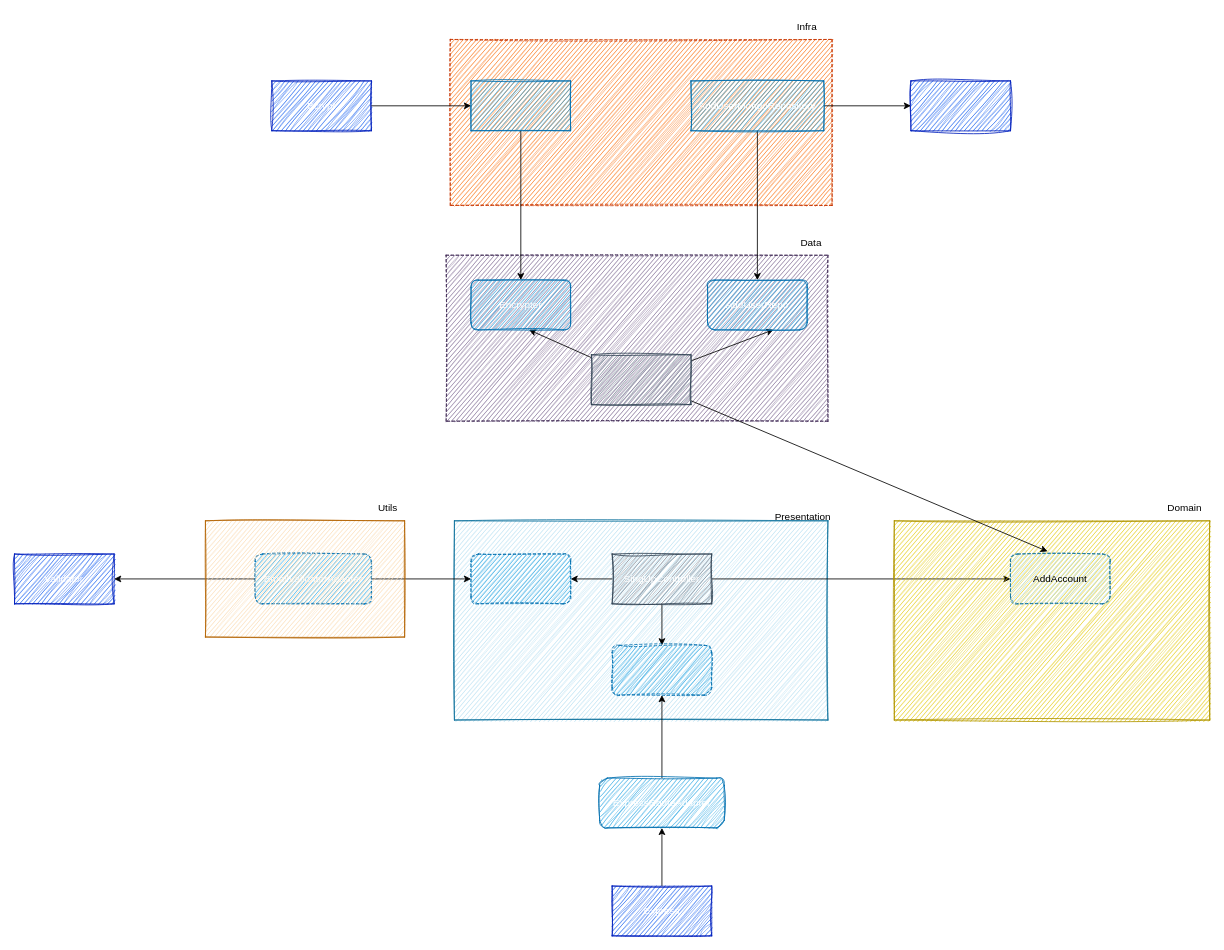
The diagram is 1224 pixels wide and 950 high, and some of its shapes have lost their labels. The shapes that lost their labels are listed below. From the top down, each one's centre as x and y in pixels, then its label:
At point (520, 105): "BcrypterAdapter".
At point (960, 105): "MongoDb".
At point (641, 379): "DbAddAccount".
At point (520, 578): "EmailValidator".
At point (661, 669): "Controller".
